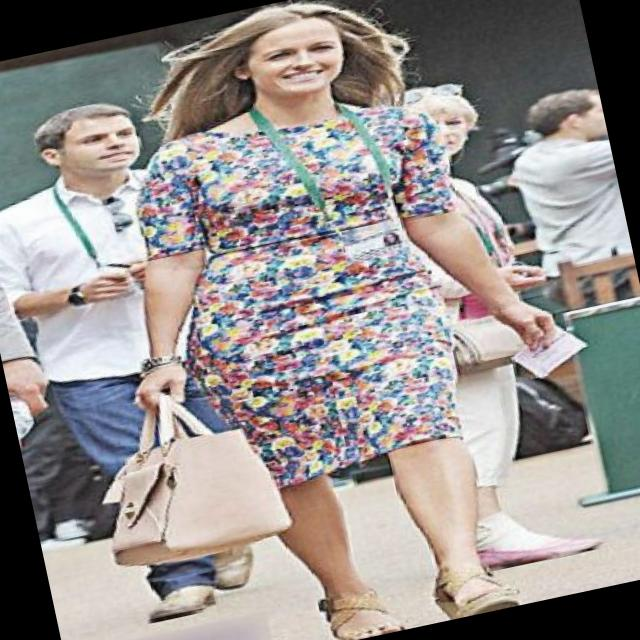Person: (108, 0, 587, 640)
